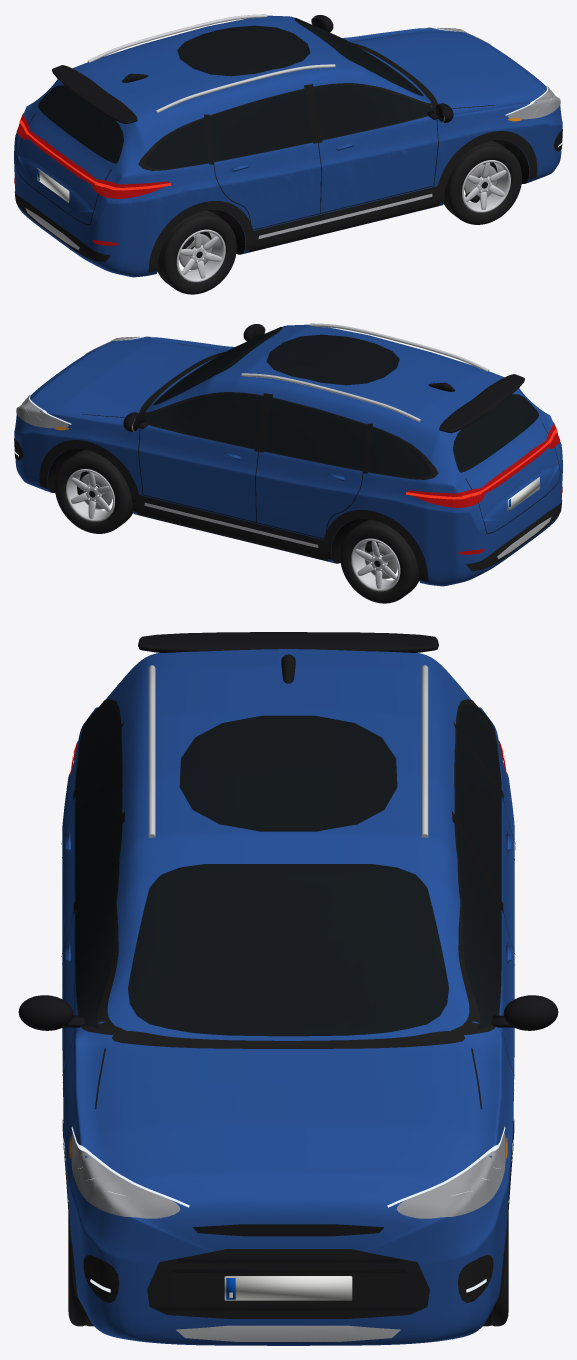
Rendered from coche.glb.
3 views of the same model, one above another, from view 1: azimuth 30°, elevation 25°; view 2: azimuth 150°, elevation 25°; view 3: azimuth 270°, elevation 25° (orthographic). The views are drawn at different scales.
Visible parts, largest first — view 1: body, dlo, sunroof, wheel.003, wheel.001, sill_clad, rearglass, spoiler, windshield, arch_clad.001, arch_clad, dlo_frame (+11 smaller); view 2: body, dlo, sunroof, wheel.002, wheel, sill_clad, rearglass, spoiler, windshield, arch_clad.001, arch_clad, dlo_frame (+11 smaller); view 3: body, windshield, dlo, sunroof, grille_low, headlamp, spoiler, dlo_frame, cowl, skid_f, plate, intake (+9 smaller).
Boxes of the visible parts, box(x1,y1,x2,y2) form: body: box(14, 15, 562, 277); dlo: box(145, 84, 435, 168); sunroof: box(177, 25, 310, 76); wheel.003: box(157, 210, 236, 294); wheel.001: box(443, 141, 521, 224); sill_clad: box(248, 185, 440, 252); rearglass: box(37, 85, 123, 163); spoiler: box(52, 65, 137, 124); windshield: box(294, 17, 423, 95); arch_clad.001: box(148, 201, 254, 272); arch_clad: box(435, 131, 537, 203); dlo_frame: box(138, 83, 435, 170); body: box(14, 324, 562, 586); dlo: box(141, 393, 431, 477); sunroof: box(266, 334, 399, 385); wheel.002: box(340, 519, 419, 603); wheel: box(55, 450, 132, 533); sill_clad: box(136, 494, 328, 561); rearglass: box(453, 394, 539, 472); spoiler: box(439, 374, 524, 433); windshield: box(153, 327, 282, 404); arch_clad.001: box(322, 510, 428, 581); arch_clad: box(39, 440, 141, 512); dlo_frame: box(141, 392, 438, 479); body: box(62, 649, 514, 1345); windshield: box(128, 864, 448, 1036); dlo: box(75, 704, 501, 1028); sunroof: box(179, 715, 397, 831); grille_low: box(147, 1249, 429, 1318); headlamp: box(71, 1132, 505, 1218); spoiler: box(138, 632, 438, 652); dlo_frame: box(75, 699, 501, 1034); cowl: box(112, 1031, 464, 1048); skid_f: box(176, 1325, 400, 1341); plate: box(224, 1276, 352, 1300); intake: box(83, 1255, 493, 1302).
Size of the model in its own units: 4.44 by 1.66 by 2.19.
